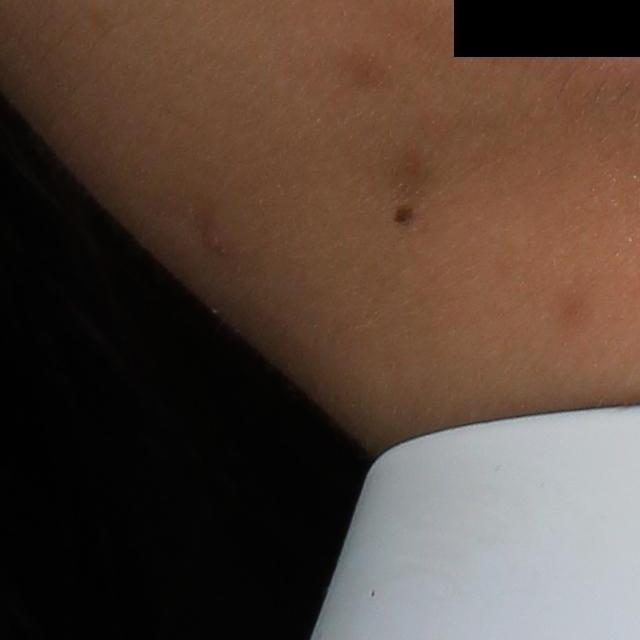nevus: (390, 204, 416, 224)
papule: (203, 220, 230, 254)
